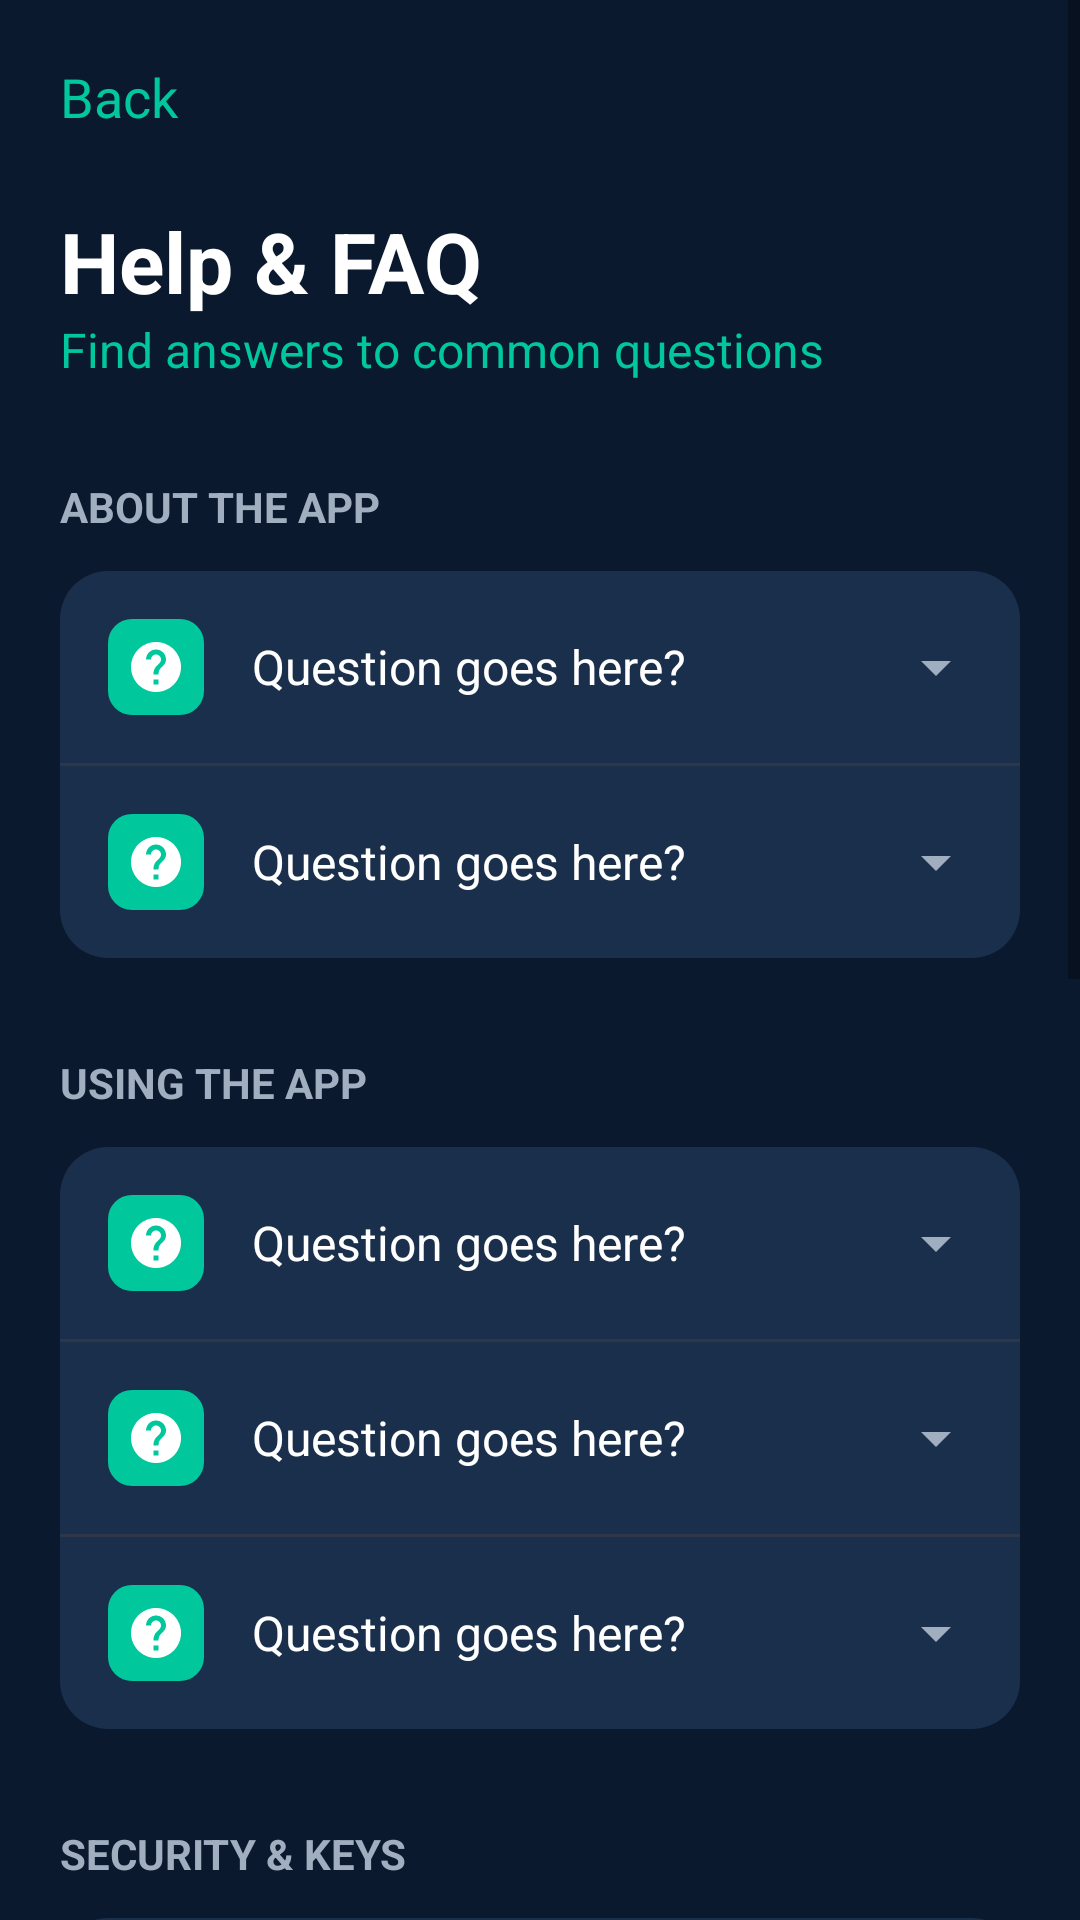

Icons on this 1080×1920 Android screen, each with its box as bbox(x1, y1, x2, y2):
arrow down: bbox(921, 661, 951, 676), bbox(921, 856, 951, 871), bbox(921, 1237, 951, 1252), bbox(921, 1432, 951, 1447), bbox(921, 1627, 951, 1642)
help: bbox(108, 619, 204, 715), bbox(108, 814, 204, 910), bbox(108, 1195, 204, 1291), bbox(108, 1390, 204, 1486), bbox(108, 1585, 204, 1681)
